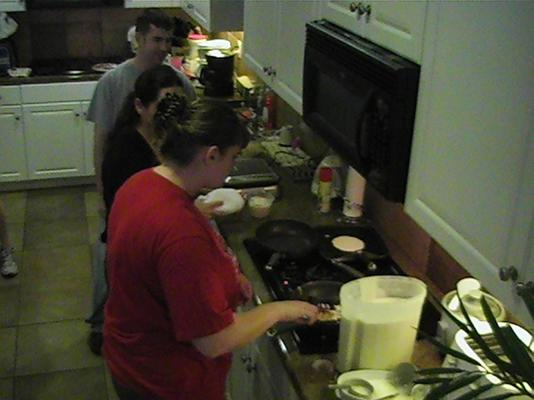person: (101, 99, 323, 398)
